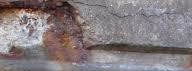Corrosion: (1, 1, 87, 64)
Crack: (71, 1, 180, 19)
